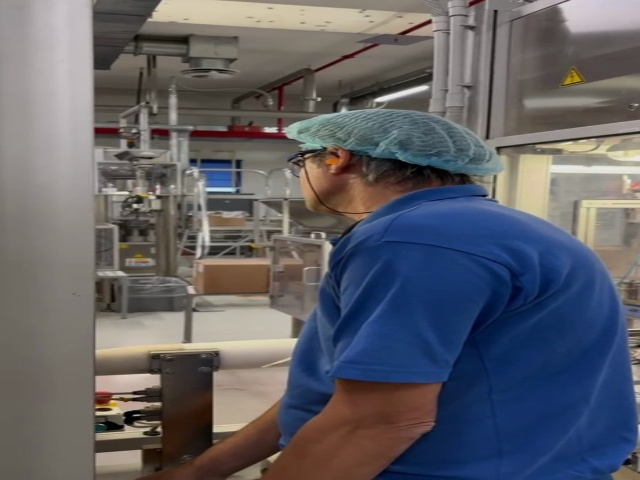Earplug: (323, 146, 350, 176)
Hairnet: (282, 108, 501, 175)
No_Helmet: (280, 106, 495, 174)
No_Vest: (302, 201, 640, 480)
Person: (285, 103, 640, 480)
Safety_Goggles: (287, 146, 329, 170)
